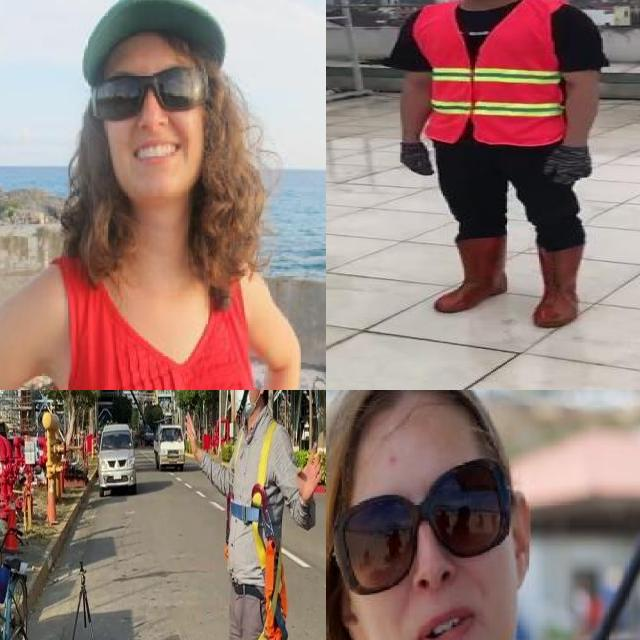Harness: (230, 421, 289, 640)
boots: (432, 236, 510, 315), (528, 245, 586, 328)
face_nomask: (332, 478, 518, 640), (103, 71, 200, 174)
glasses: (328, 463, 516, 582), (79, 54, 195, 121)
hand_glove: (541, 145, 599, 187), (397, 143, 432, 178)
head_nohelmet: (82, 0, 237, 74), (326, 390, 497, 443)
person: (0, 0, 301, 390), (326, 390, 640, 640), (385, 0, 619, 333)
vest: (410, 0, 567, 145)
